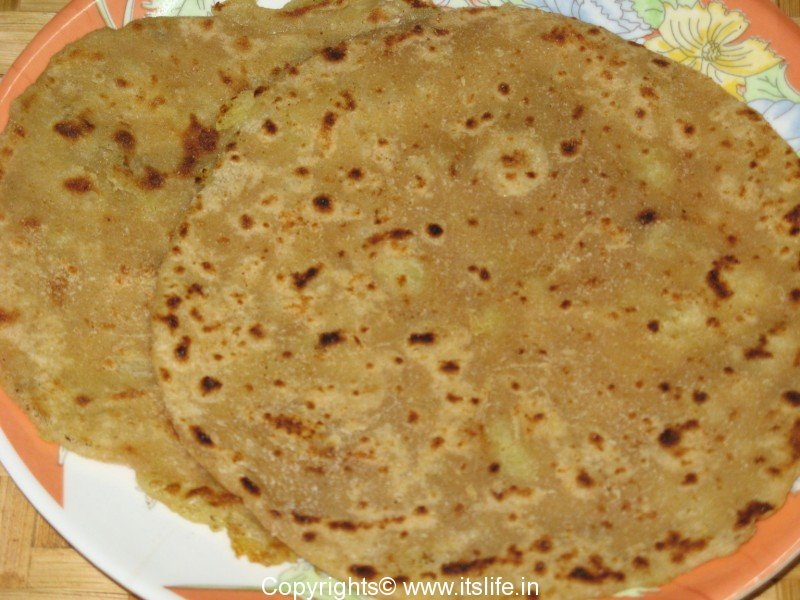aloo_paratha: (7, 1, 798, 600)
